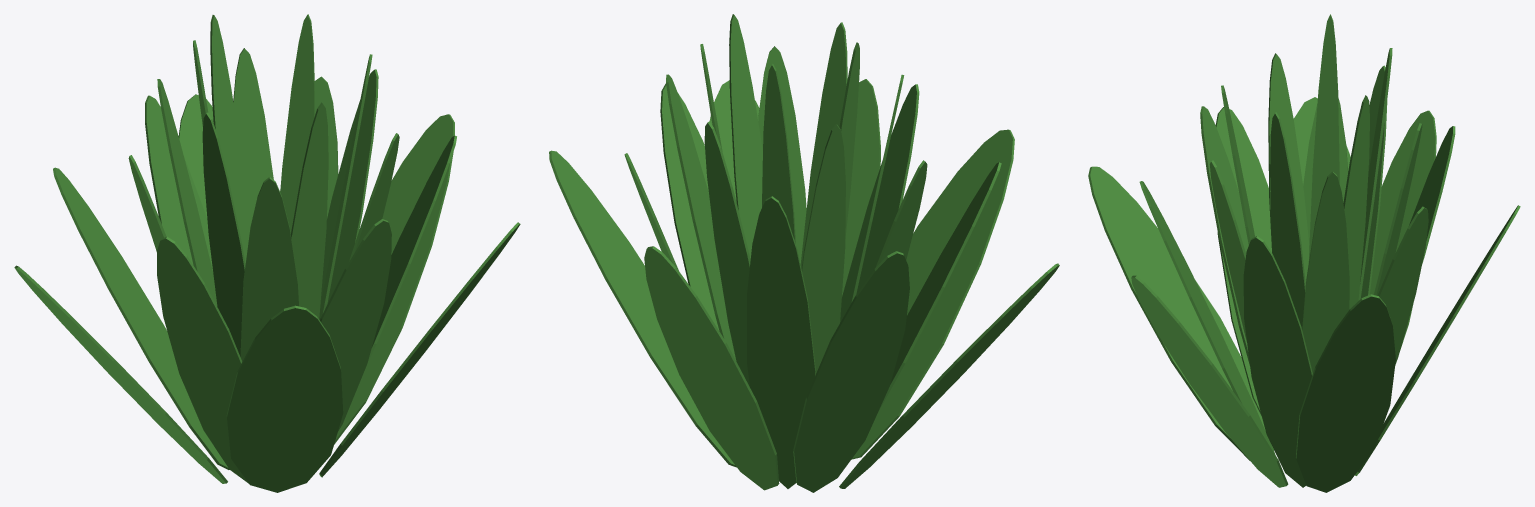
Rendered from grass_array01.fbx.
The picture shows the model from 3 angles, left to right: view 1: azimuth 30°, elevation 25°; view 2: azimuth 150°, elevation 25°; view 3: azimuth 270°, elevation 25°; orthographic projection. The views are drawn at different scales.
Parts seen in each view (by area): view 1: grass_array01; view 2: grass_array01; view 3: grass_array01.
Part boxes in pixels (box(x1,y1,x2,y2)): grass_array01: box(14, 14, 520, 492); grass_array01: box(549, 14, 1059, 492); grass_array01: box(1088, 14, 1520, 492).
Bounding box in the file's own units: 325 × 297 × 273.
